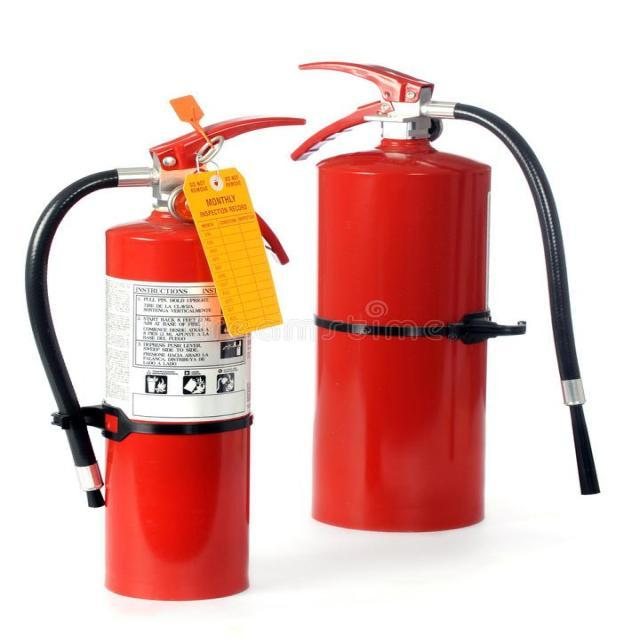fire_extinguisher: (282, 54, 607, 536), (15, 90, 308, 608)
